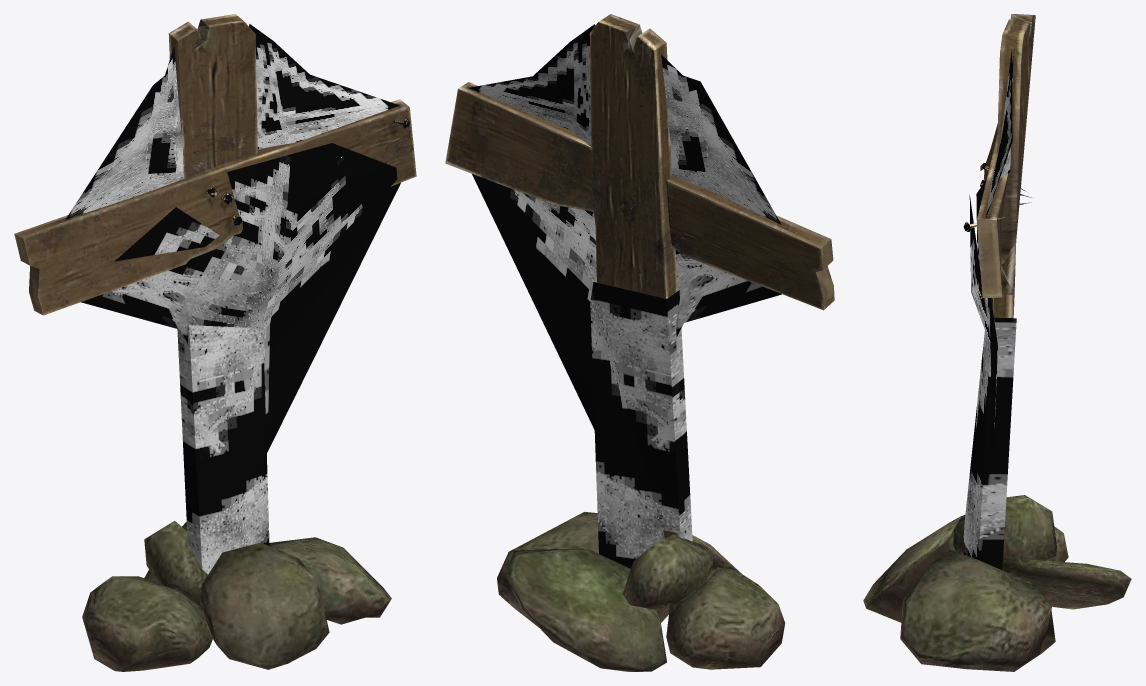
File: halloween-wood-collectable.glb
3 renders of one model, left to right at view 1: azimuth 30°, elevation 25°; view 2: azimuth 150°, elevation 25°; view 3: azimuth 270°, elevation 25°, orthographic. The views are drawn at different scales.
Parts seen in each view (by area): view 1: wooden_cross_LOD0; view 2: wooden_cross_LOD0; view 3: wooden_cross_LOD0.
Part boxes in pixels (<box>): wooden_cross_LOD0: <box>14,14,416,671</box>; wooden_cross_LOD0: <box>445,14,834,671</box>; wooden_cross_LOD0: <box>863,14,1131,671</box>.
Bounding box in the file's own units: 0.7459 × 1.16 × 0.4591.
Materials: 2 (2 with a texture image).
